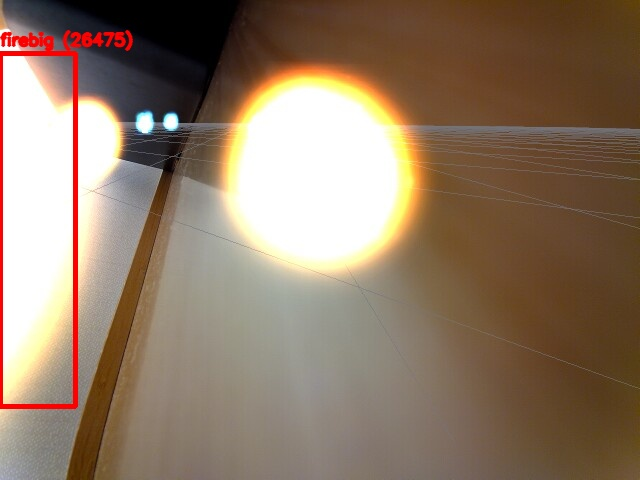firebig: (0, 53, 75, 406)
